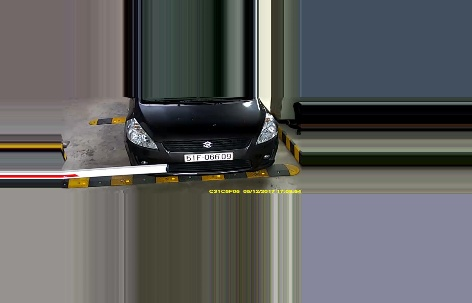plate: (182, 151, 233, 163)
